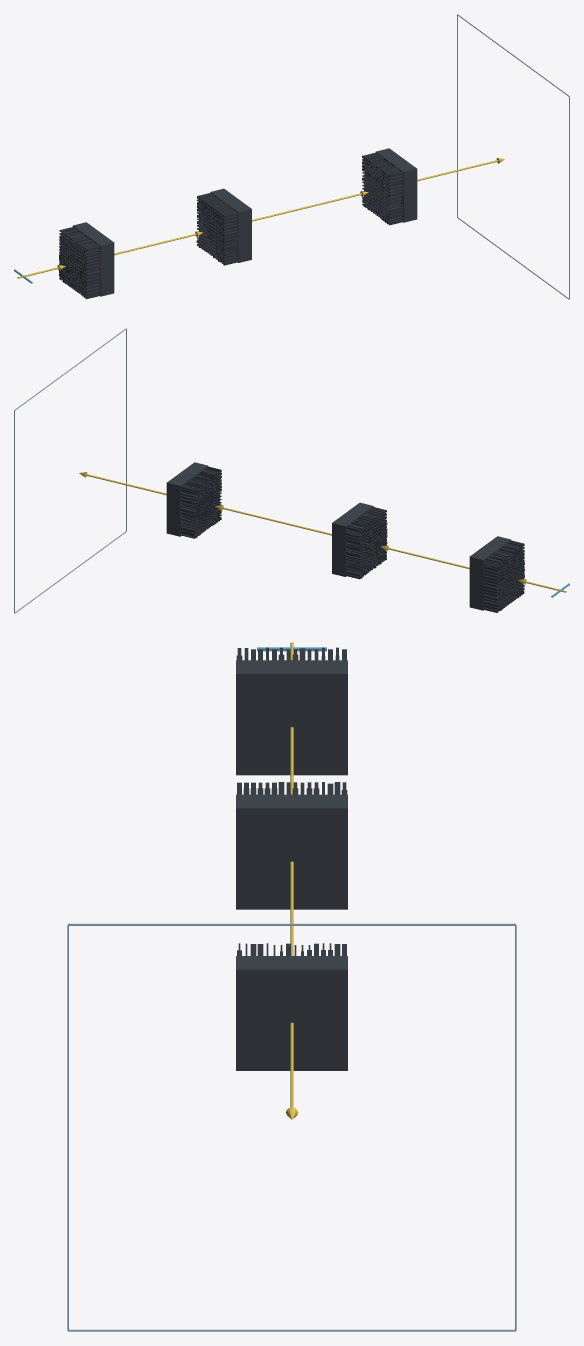
Rendered from system.glb.
3 views of the same model, one above another, from view 1: azimuth 30°, elevation 25°; view 2: azimuth 150°, elevation 25°; view 3: azimuth 270°, elevation 25° (orthographic). The views are drawn at different scales.
Visible parts, largest first — view 1: L1_Pillars, L2_Pillars, L3_Pillars, L3_Substrate, L1_Substrate, L2_Substrate, Propagation_Arrows, Measurement_Frame; view 2: L1_Pillars, L2_Pillars, L3_Pillars, L3_Substrate, L1_Substrate, L2_Substrate, Propagation_Arrows, Measurement_Frame; view 3: L2_Substrate, L1_Substrate, L3_Substrate, Measurement_Frame, L2_Pillars, Propagation_Arrows, L1_Pillars, L3_Pillars.
Part boxes in pixels (x1,y1,x2,y2): L1_Pillars: (59,227,100,299); L2_Pillars: (196,192,238,265); L3_Pillars: (362,152,403,225); L3_Substrate: (375,148,417,222); L1_Substrate: (72,222,114,296); L2_Substrate: (210,188,251,262); Propagation_Arrows: (17,158,504,278); Measurement_Frame: (457,14,569,299); L1_Pillars: (483,540,524,612); L2_Pillars: (345,507,387,579); L3_Pillars: (180,466,221,538); L3_Substrate: (166,462,207,536); L1_Substrate: (469,536,510,610); L2_Substrate: (332,502,373,576); Propagation_Arrows: (79,472,566,592); Measurement_Frame: (14,328,126,613); L2_Substrate: (236,794,347,909); L1_Substrate: (236,660,347,775); L3_Substrate: (236,956,347,1070); Measurement_Frame: (67,923,516,1331); L2_Pillars: (237,782,347,794); Propagation_Arrows: (286,642,297,1119); L1_Pillars: (236,647,346,660); L3_Pillars: (237,943,346,955).
Size of the model in its own units: 0.018 by 0.00707 by 0.00707.
